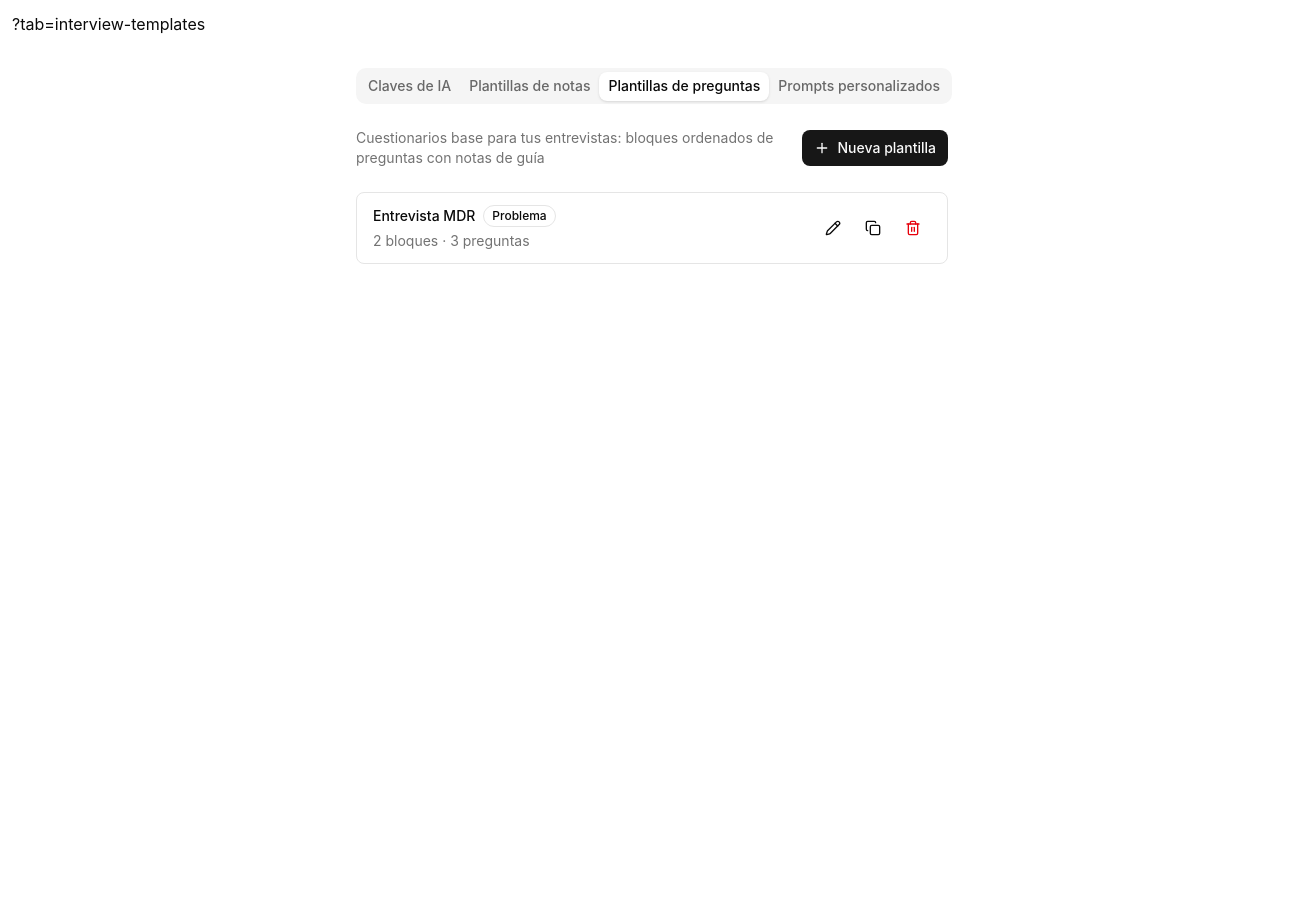
InterviewTemplatesTab (listado) › duplicating › duplicates immediately without a dialog, shows the toast and adds the copy to the list
Expected: the text "Entrevista MDR" is shown, top-left (373, 206), bottom-right (475, 226)
What coordinates should you click on to do the following:
click the button named "Duplicar plantilla"
I would click on:
 (873, 228)
Its box is top-left (855, 210), bottom-right (891, 246).
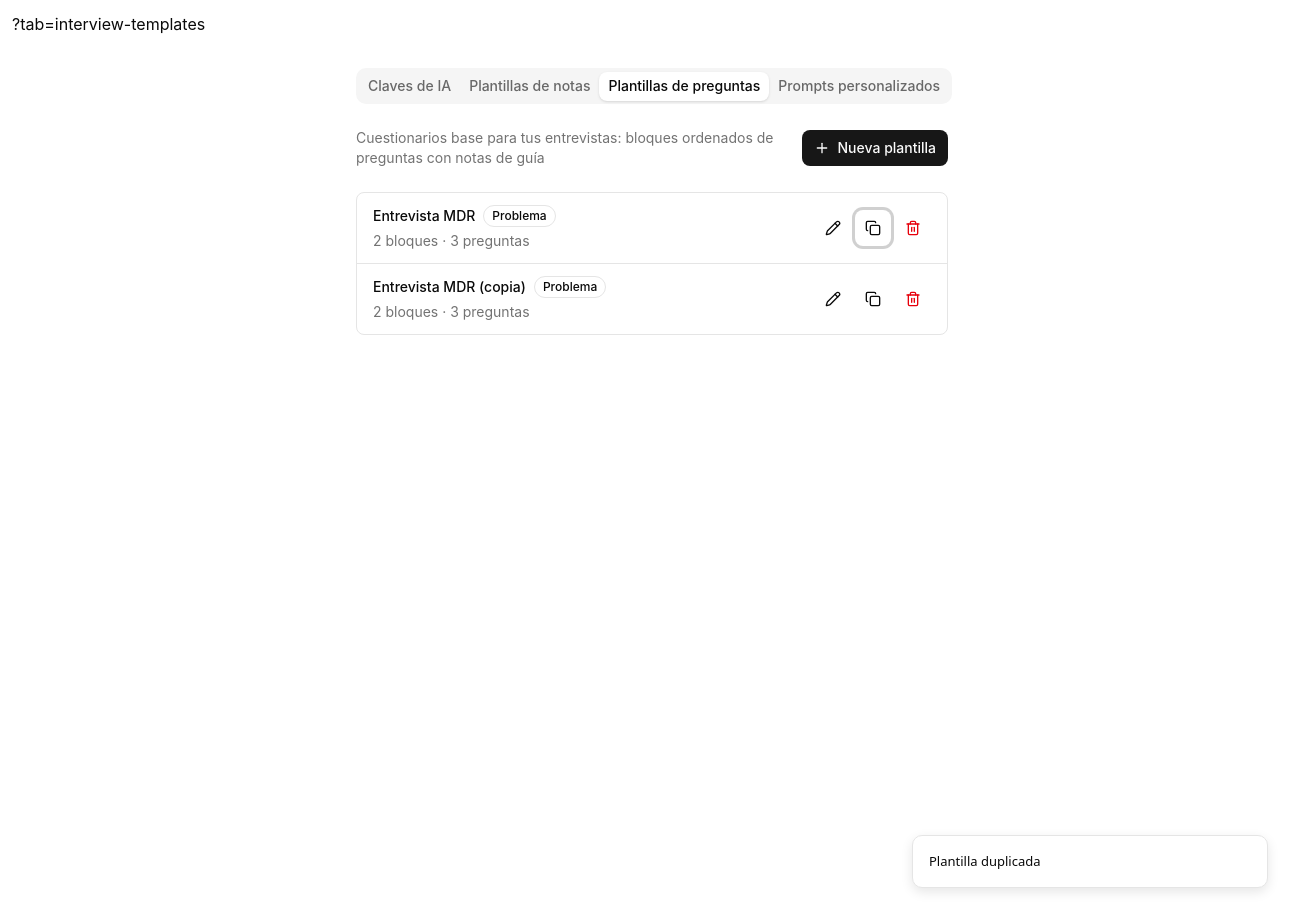
Expected: the text "Entrevista MDR (copia)" is shown, top-left (373, 277), bottom-right (526, 297)
